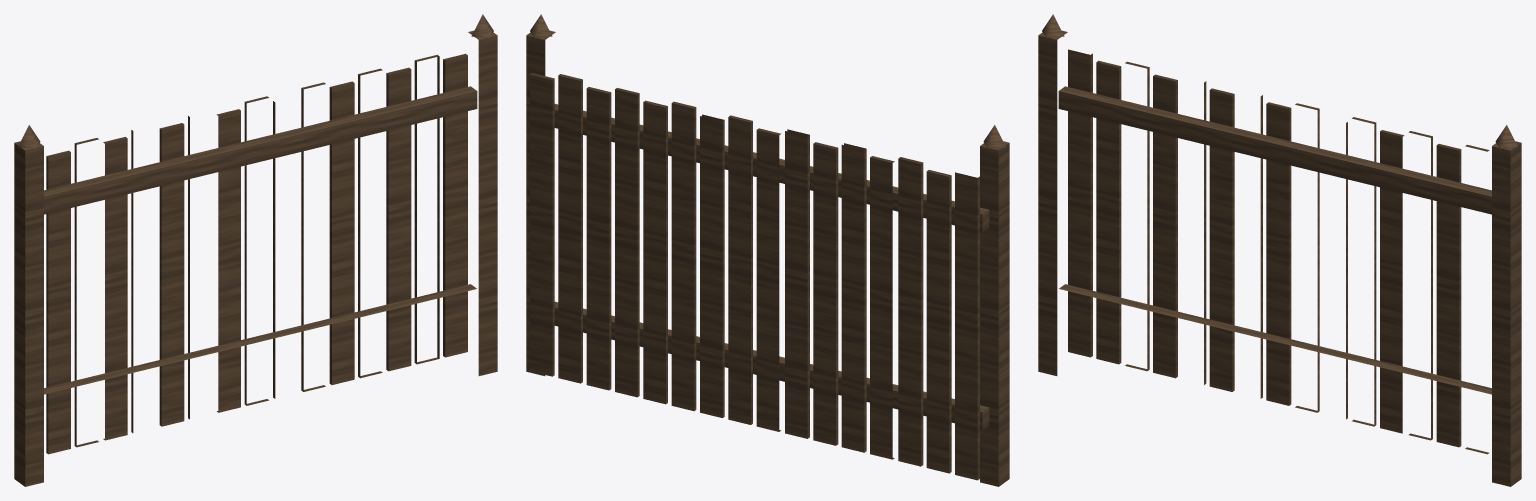
File: fence_panel.glb
The picture shows the model from 3 angles, left to right: view 1: azimuth 30°, elevation 25°; view 2: azimuth 150°, elevation 25°; view 3: azimuth 330°, elevation 25°; orthographic projection.
Parts seen in each view (by area): view 1: FencePanel; view 2: FencePanel; view 3: FencePanel.
Boxes of the visible parts, x1,y1,x2,y2 form: FencePanel: [14, 14, 497, 486]; FencePanel: [526, 14, 1009, 486]; FencePanel: [1038, 14, 1521, 486].
Bounding box in the file's own units: 2.52 × 1.8 × 0.19.
Materials: 1 (1 with a texture image).
